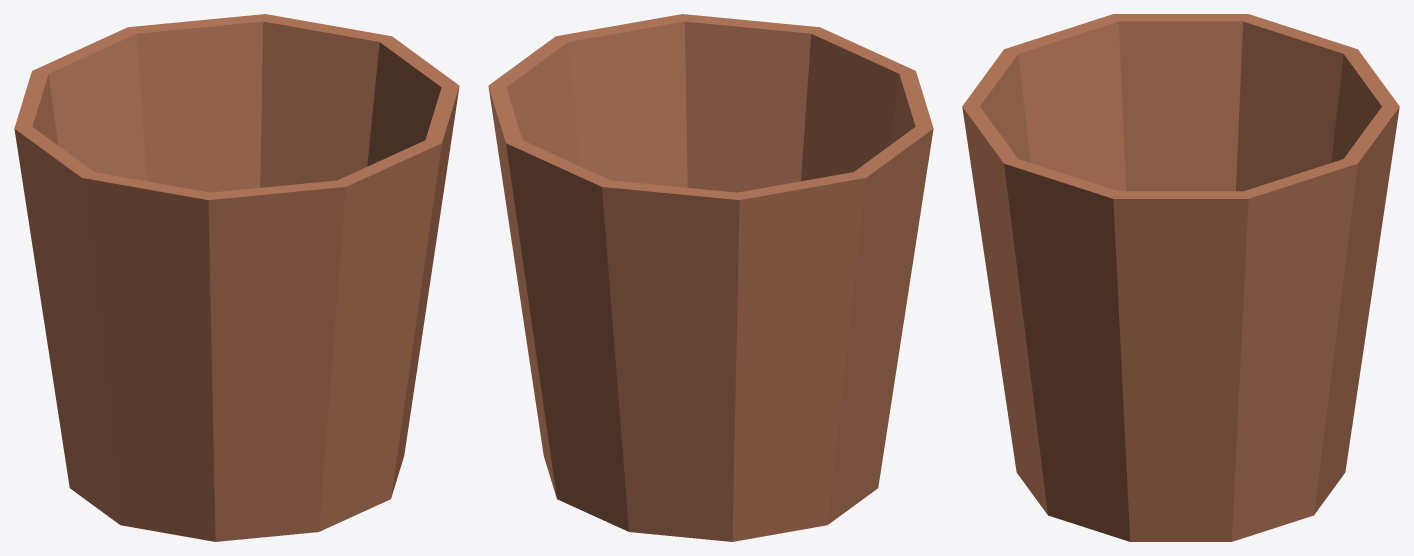
Rendered from furniture-pot-medium-circle-empty.glb.
3 renders of one model, left to right at view 1: azimuth 30°, elevation 25°; view 2: azimuth 150°, elevation 25°; view 3: azimuth 270°, elevation 25°, orthographic.
Parts seen in each view (by area): view 1: pot-medium-circle-empty; view 2: pot-medium-circle-empty; view 3: pot-medium-circle-empty.
Boxes of the visible parts, <box> form: pot-medium-circle-empty: <box>14,14,459,541</box>; pot-medium-circle-empty: <box>488,14,933,541</box>; pot-medium-circle-empty: <box>962,14,1399,541</box>.
Size of the model in its own units: 0.26 by 0.24 by 0.26.
